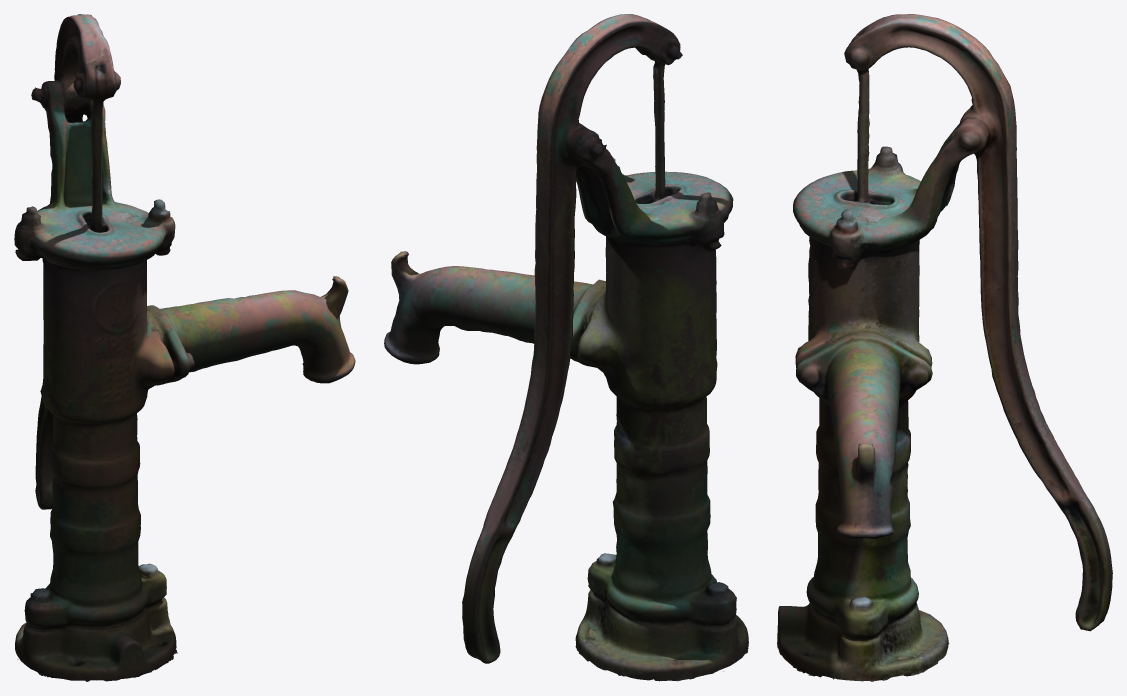
File: water.glb
3 views of the same model, side by side, from view 1: azimuth 30°, elevation 25°; view 2: azimuth 150°, elevation 25°; view 3: azimuth 270°, elevation 25° (orthographic). The views are drawn at different scales.
Visible parts, largest first — view 1: pumpa_LP; view 2: pumpa_LP; view 3: pumpa_LP.
Boxes of the visible parts, box(x1,y1,x2,y2) form: pumpa_LP: box(14, 14, 355, 681); pumpa_LP: box(384, 14, 748, 681); pumpa_LP: box(777, 14, 1112, 681).
Bounding box in the file's own units: 1.49 × 2.63 × 1.25.
Materials: 1 (1 with a texture image).
